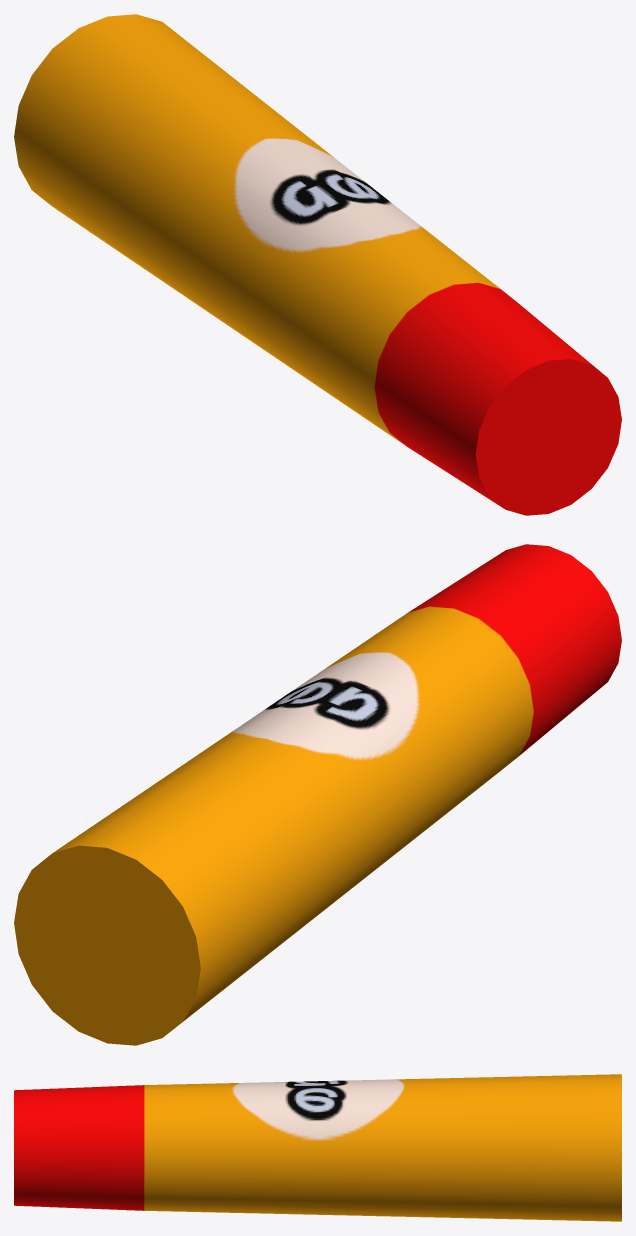
Rendered from accessory_02.glb.
3 renders of one model, top to bottom at view 1: azimuth 30°, elevation 25°; view 2: azimuth 150°, elevation 25°; view 3: azimuth 270°, elevation 25°, orthographic. The views are drawn at different scales.
Parts seen in each view (by area): view 1: obj1; view 2: obj1; view 3: obj1.
Boxes of the visible parts, x1,y1,x2,y2 form: obj1: (14,14,621,515); obj1: (14,544,621,1045); obj1: (14,1074,621,1221).
Bounding box in the file's own units: 2.4 × 2.4 × 9.82.
1 material, 1 textured.
